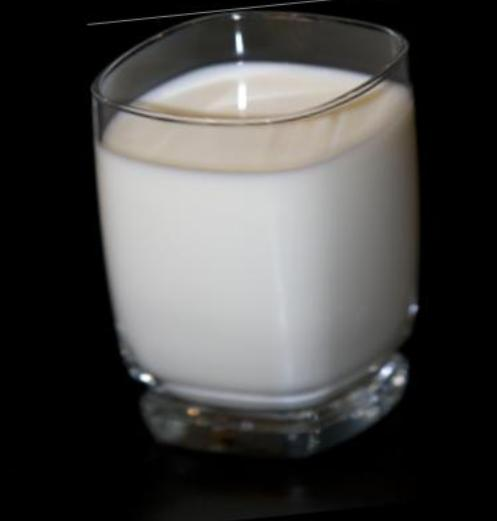produk_susu: (94, 19, 417, 455)
